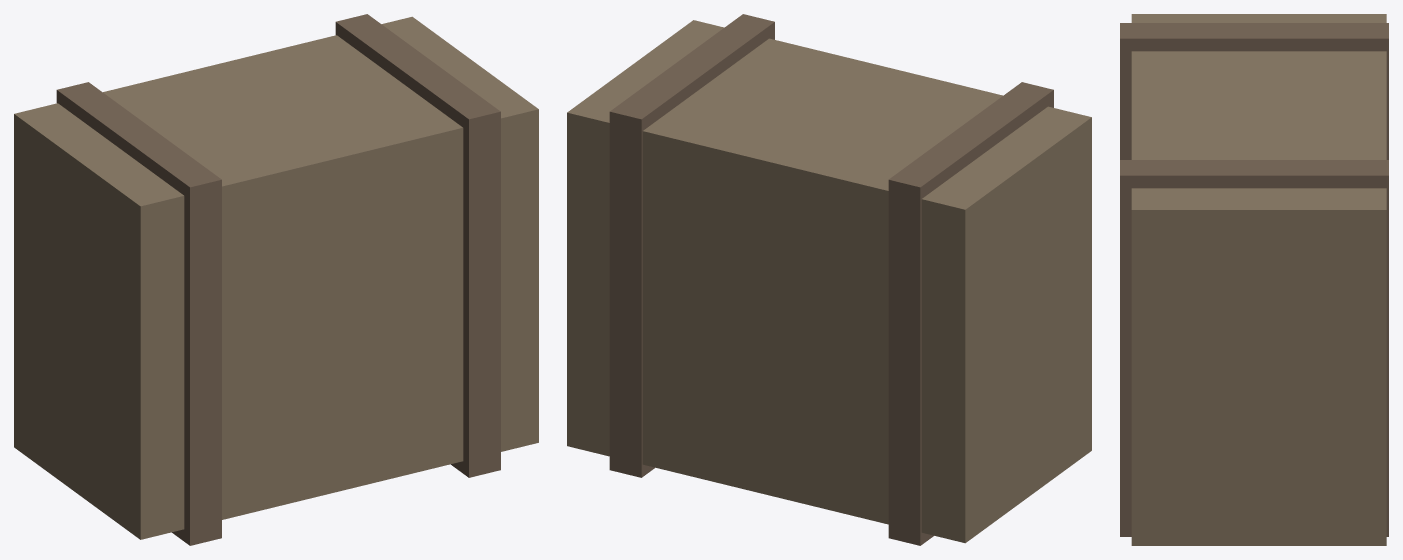
Rendered from wooden_crate.glb.
3 renders of one model, left to right at view 1: azimuth 30°, elevation 25°; view 2: azimuth 150°, elevation 25°; view 3: azimuth 270°, elevation 25°, orthographic.
Visible parts, largest first — view 1: world; view 2: world; view 3: world.
Boxes of the visible parts, <box> form: world: <box>14,14,538,545</box>; world: <box>567,14,1091,545</box>; world: <box>1120,14,1388,545</box>.
Size of the model in its own units: 1 by 0.86 by 0.58.
